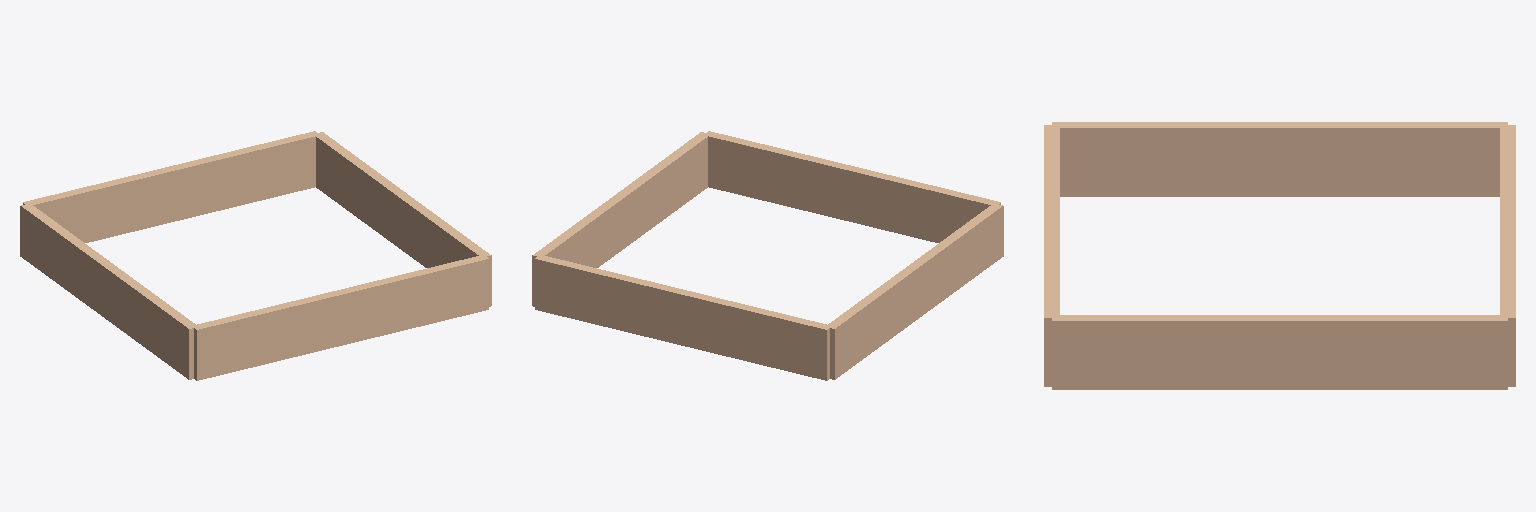
robot.urdf — walls:
<?xml version="1.0"?>
<robot name="walls">
  <!--Room 0-->
  <link name="wall_link0">
    <visual>
      <origin xyz="3 0 0" rpy="0 0 0" />
      <geometry>
        <box size="0.2 6 1" />
      </geometry>
      <material name="desert sand">
        <color rgba="0.9297 0.7930 0.6758 1" />
      </material>
    </visual>
    <collision>
      <origin xyz="3 0 0" rpy="0 0 0" />
      <geometry>
        <box size="0.2 6 1" />
      </geometry>
    </collision>
  </link>
  <joint name="joint01" type="fixed">
    <parent link="wall_link0"/>
    <child link="wall_link1"/>
    <origin xyz="0 0 0"/>
  </joint>
  <link name="wall_link1">
    <visual>
      <origin xyz="-3 0 0" rpy="0 0 0" />
      <geometry>
        <box size="0.2 6 1" />
      </geometry>
      <material name="desert sand">
        <color rgba="0.9297 0.7930 0.6758 1" />
      </material>
    </visual>
    <collision>
      <origin xyz="-3 0 0" rpy="0 0 0" />
      <geometry>
        <box size="0.2 6 1" />
      </geometry>
    </collision>
  </link>
  <joint name="joint12" type="fixed">
    <parent link="wall_link1"/>
    <child link="wall_link2"/>
    <origin xyz="0 0 0"/>
  </joint>
  <link name="wall_link2">
    <visual>
      <origin xyz="0 -3 0" rpy="0 0 0" />
      <geometry>
        <box size="6 0.2 1" />
      </geometry>
      <material name="desert sand">
        <color rgba="0.9297 0.7930 0.6758 1" />
      </material>
    </visual>
    <collision>
      <origin xyz="0 -3 0" rpy="0 0 0" />
      <geometry>
        <box size="6 0.2 1" />
      </geometry>
    </collision>
  </link>
  <joint name="joint03" type="fixed">
    <parent link="wall_link0"/>
    <child link="wall_link3"/>
    <origin xyz="0 0 0"/>
  </joint>
  <link name="wall_link3">
    <visual>
      <origin xyz="0 3 0" rpy="0 0 0" />
      <geometry>
        <box size="6 0.2 1" />
      </geometry>
      <material name="desert sand">
        <color rgba="0.9297 0.7930 0.6758 1" />
      </material>
    </visual>
    <collision>
      <origin xyz="0 3 0" rpy="0 0 0" />
      <geometry>
        <box size="6 0.2 1" />
      </geometry>
    </collision>
  </link>
</robot>

--- Facts derived from the render (not from the file) ---
Views: 3 orthographic renders of the robot side by side, from view 1: azimuth 30°, elevation 25°; view 2: azimuth 150°, elevation 25°; view 3: azimuth 270°, elevation 25°.
Model walls with 4 links and 3 joints (3 fixed), rooted at wall_link0, posed all joints at 0.
Links seen in each view (by area): view 1: wall_link2, wall_link3, wall_link1, wall_link0; view 2: wall_link3, wall_link2, wall_link1, wall_link0; view 3: wall_link0, wall_link1, wall_link3, wall_link2.
Boxes of the visible links, x1,y1,x2,y2 form: wall_link2: [192, 255, 488, 380]; wall_link3: [23, 131, 316, 242]; wall_link1: [20, 203, 197, 379]; wall_link0: [313, 132, 491, 306]; wall_link3: [535, 255, 830, 380]; wall_link2: [707, 131, 1000, 242]; wall_link1: [825, 203, 1003, 379]; wall_link0: [532, 132, 710, 306]; wall_link0: [1052, 315, 1507, 389]; wall_link1: [1052, 122, 1507, 196]; wall_link3: [1500, 125, 1515, 386]; wall_link2: [1044, 125, 1059, 386].
Bounding box of the posed robot: 6.2 × 6.2 × 1 m (x, y, z).
Geometry: primitives only (box / cylinder / sphere), no mesh files.